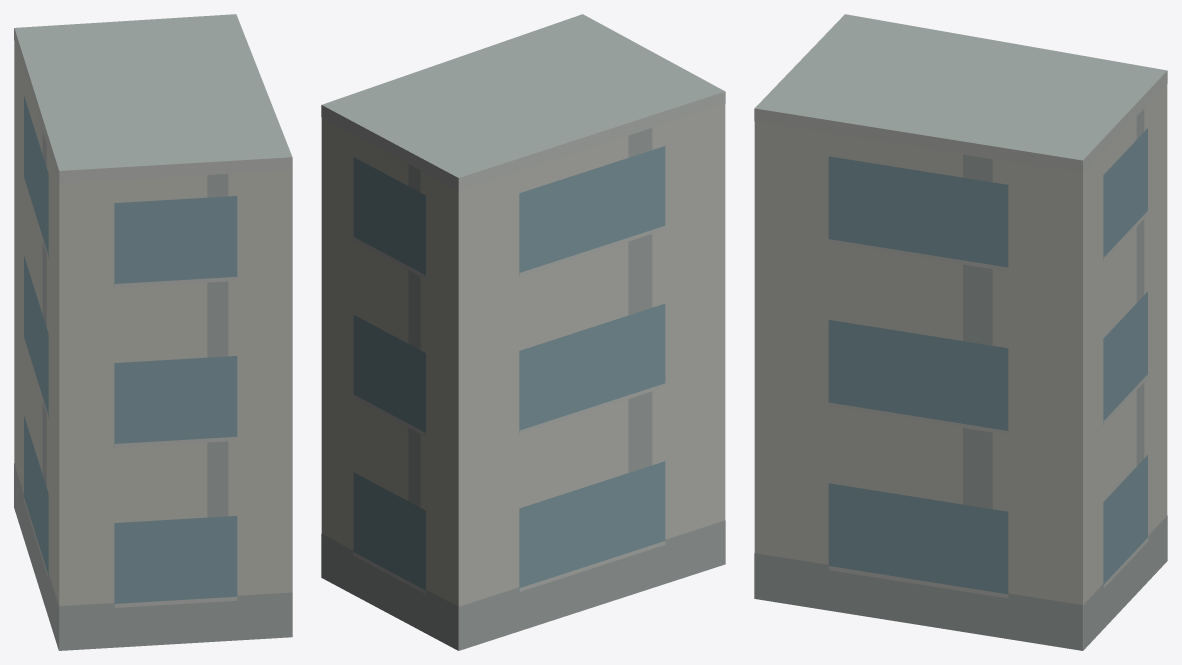
File: survey-upis-32879539.glb
3 views of the same model, side by side, from view 1: azimuth 30°, elevation 25°; view 2: azimuth 150°, elevation 25°; view 3: azimuth 270°, elevation 25° (orthographic). The views are drawn at different scales.
Visible parts, largest first — view 1: survey-upis-32879539.tmp; view 2: survey-upis-32879539.tmp; view 3: survey-upis-32879539.tmp.
Boxes of the visible parts, x1,y1,x2,y2 form: survey-upis-32879539.tmp: (14,14,292,650); survey-upis-32879539.tmp: (321,14,725,650); survey-upis-32879539.tmp: (754,14,1167,650).
Size of the model in its own units: 5.87 by 9.15 by 6.99.
